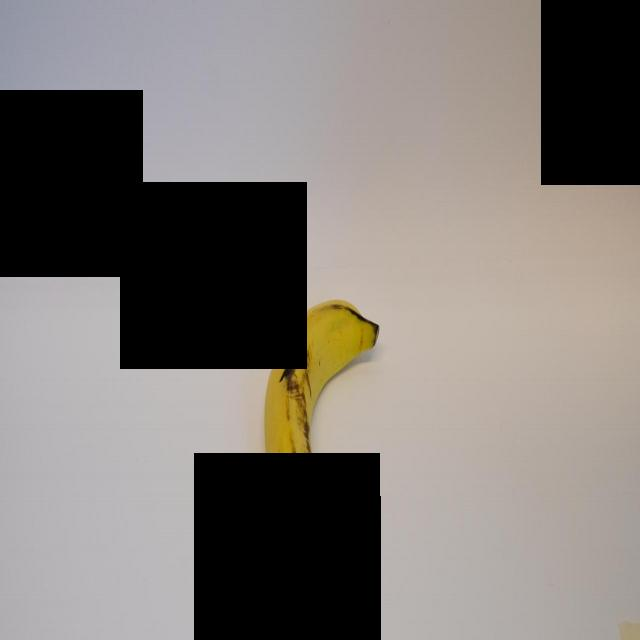banana: (262, 296, 380, 530)
